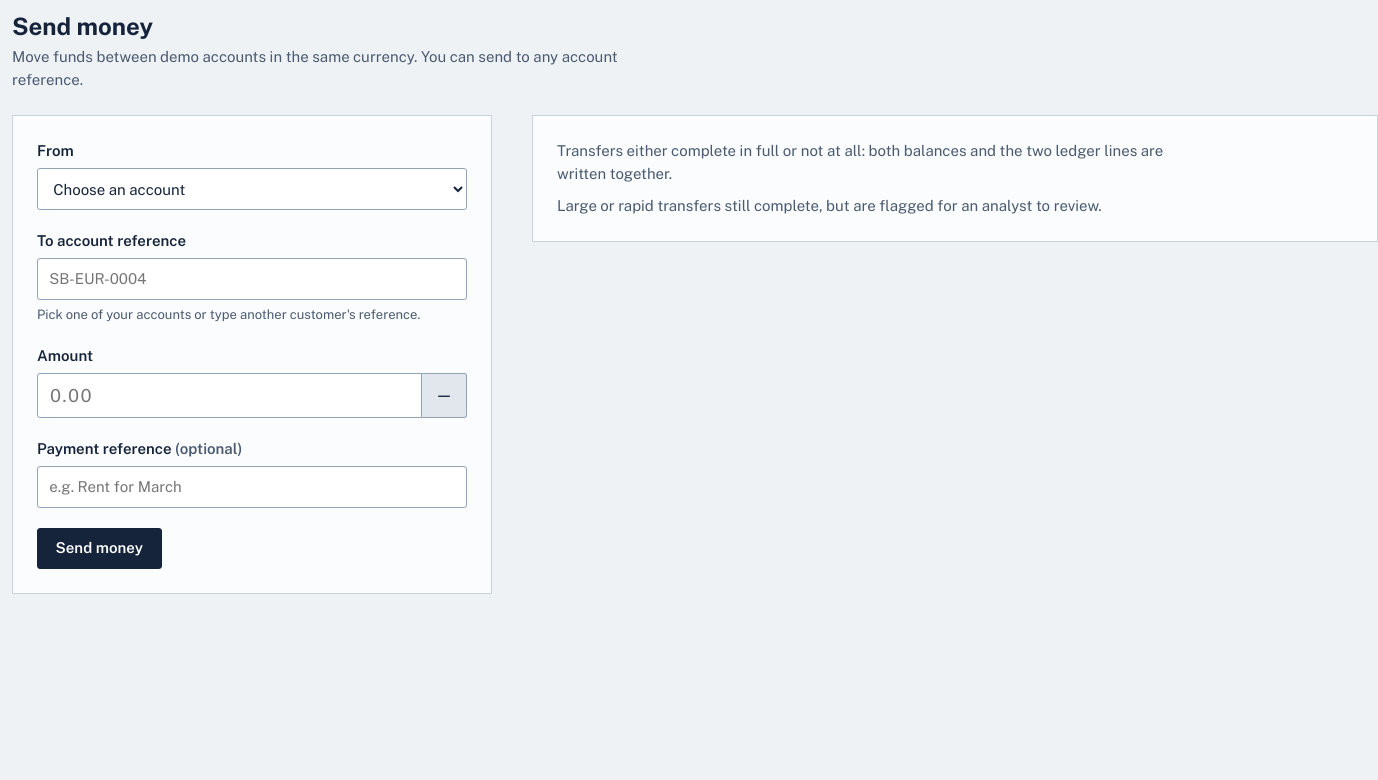
TransferComponent › offers only active accounts as the source and shows the available balance
Select "Alice Everyday (SB-EUR-0001)" in the dropdown with id "source" at [252, 189], box [37,168,467,210]
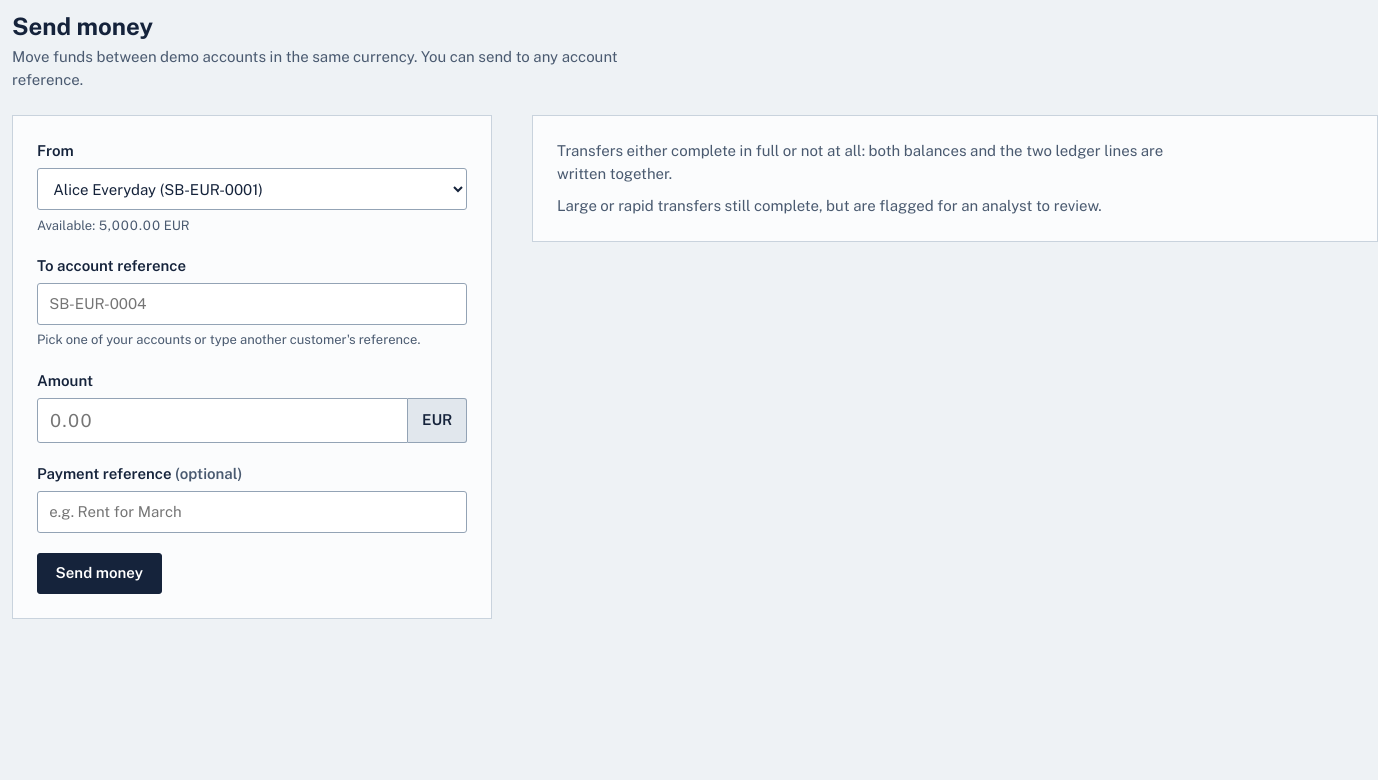
Check: the text "Available: 5,000.00 EUR" is shown, box [37,218,190,233]
